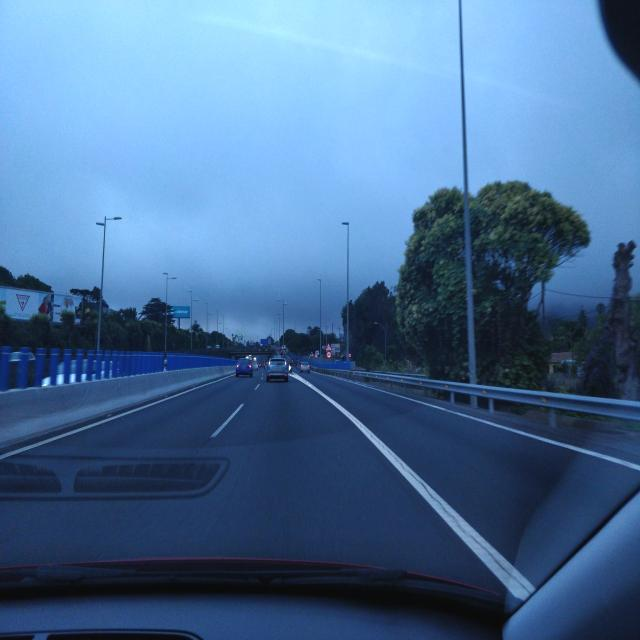car: (266, 356, 289, 383), (235, 358, 254, 378), (299, 359, 311, 374)
